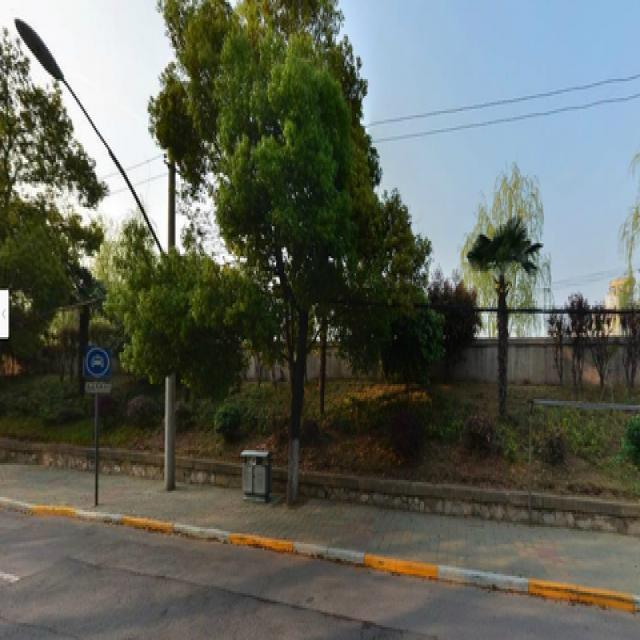cinn: (183, 13, 353, 486)
